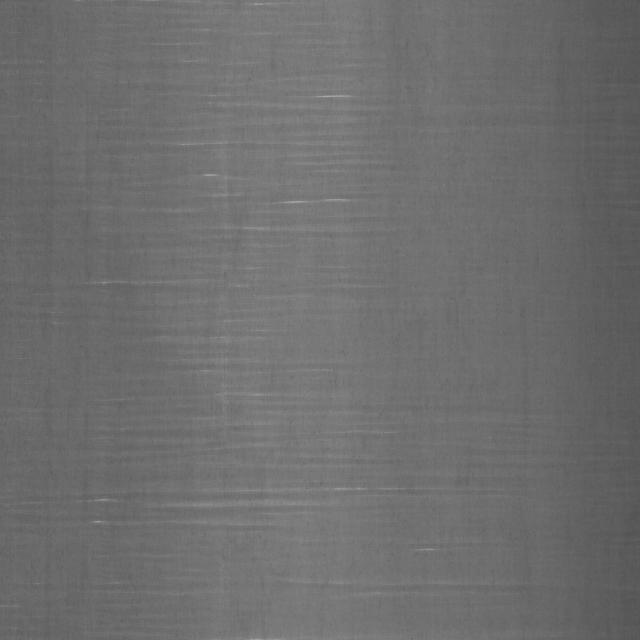punching_hole: (23, 16, 610, 554)
